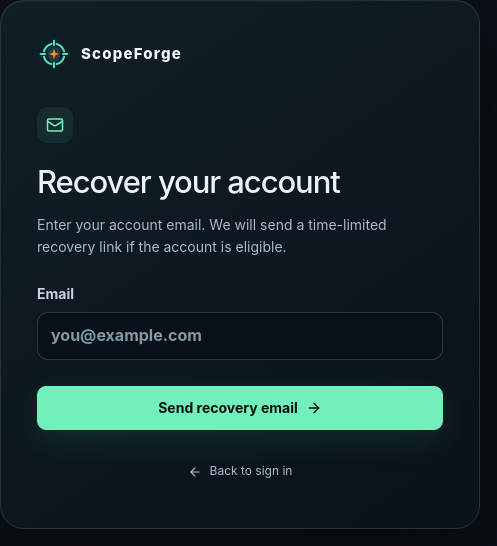
Scenario: password recovery › uses non-enumerating request guidance
This screenshot has width=497, height=546.
Type "person@example.com" into the field labelled "Email".
click(240, 336); type("person@example.com")  # box x1=37 y1=312 x2=443 y2=360
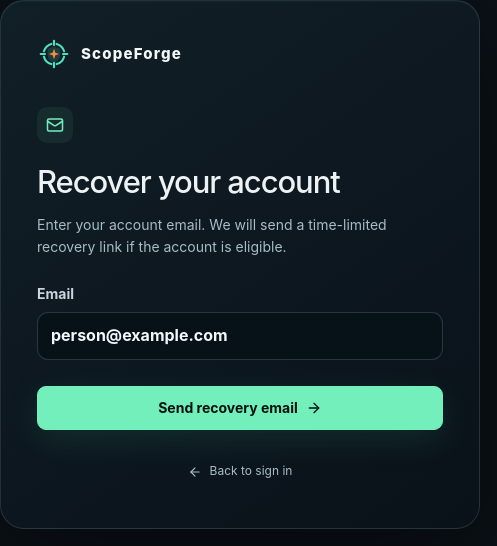
Click the button "Send recovery email".
click(240, 408)  # box x1=37 y1=386 x2=443 y2=430
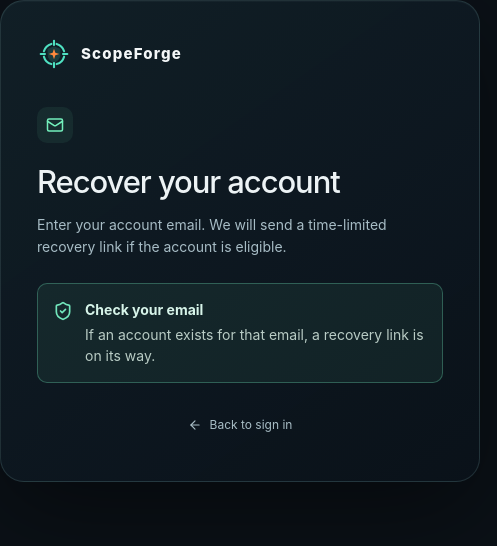
Check: the message shows "If an account exists for that email, a recovery link is on its way.", box x1=85 y1=326 x2=424 y2=364
